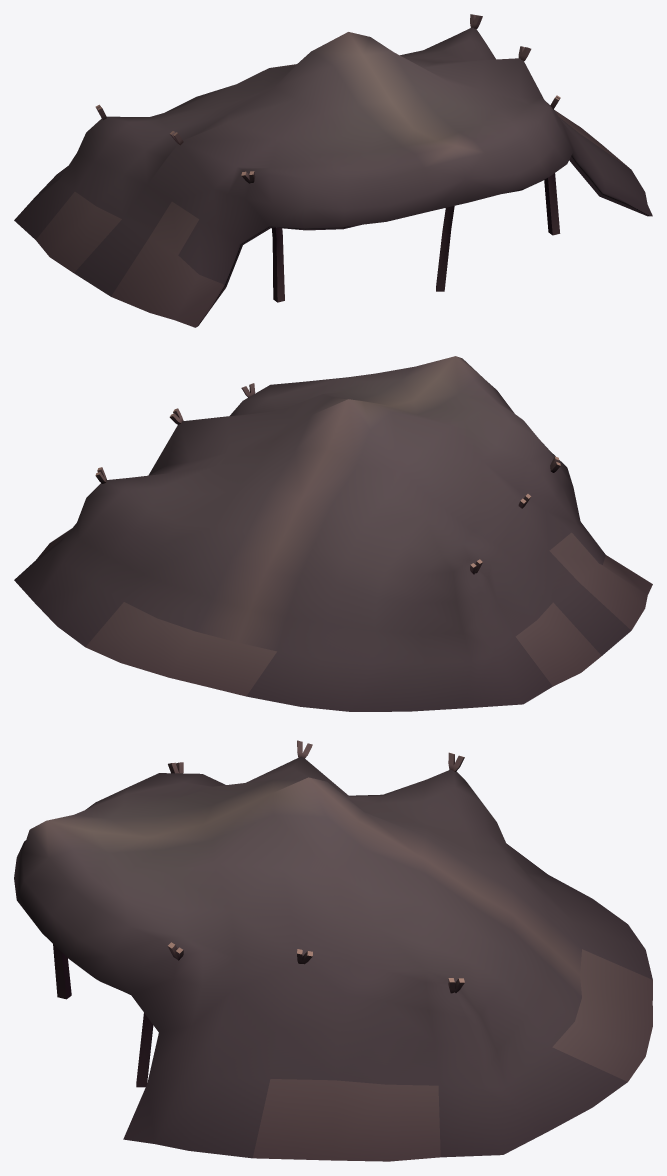
The model's file is buildings-tents-bedouintent_v1.glb.
The picture shows the model from 3 angles, top to bottom: view 1: azimuth 30°, elevation 25°; view 2: azimuth 150°, elevation 25°; view 3: azimuth 270°, elevation 25°; orthographic projection. The views are drawn at different scales.
Parts seen in each view (by area): view 1: BedouinTent.001; view 2: BedouinTent.001; view 3: BedouinTent.001.
Boxes of the visible parts, x1=… form: BedouinTent.001: x1=14, y1=14, x2=652, y2=327; BedouinTent.001: x1=14, y1=356, x2=652, y2=711; BedouinTent.001: x1=14, y1=740, x2=652, y2=1161.
Bounding box in the file's own units: 14.95 × 4.97 × 12.74.
